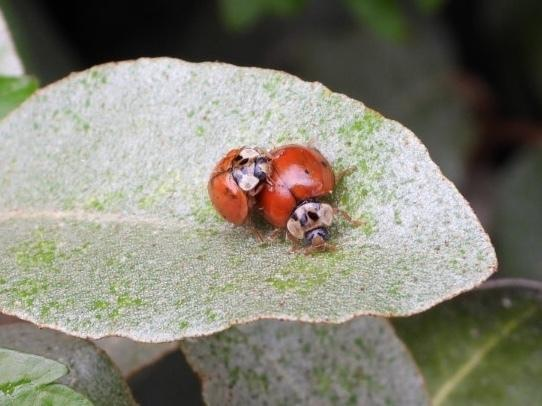ladybug: (253, 144, 365, 259), (208, 144, 287, 229)
